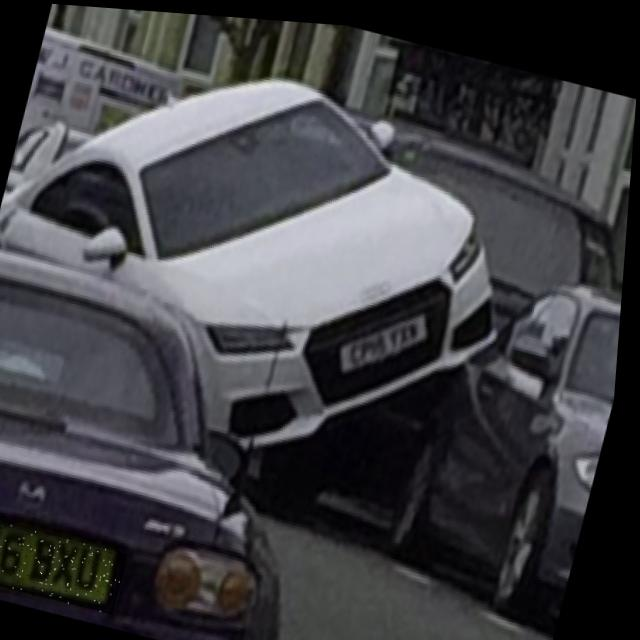license_plate: (0, 506, 138, 615)
